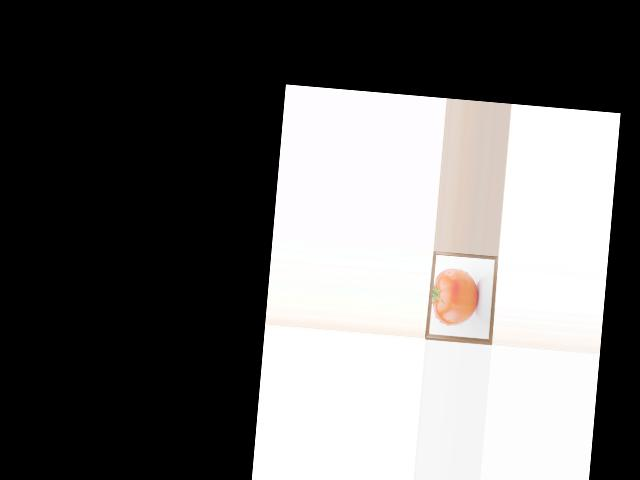tomato: (429, 267, 480, 327)
